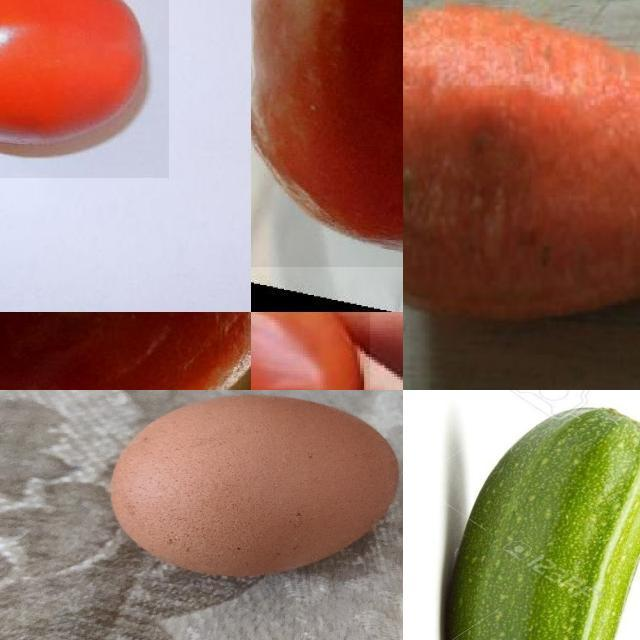carrot: (404, 1, 640, 324)
egg: (102, 392, 404, 583)
tomato: (1, 1, 169, 179)
zucchini: (438, 391, 640, 640)
